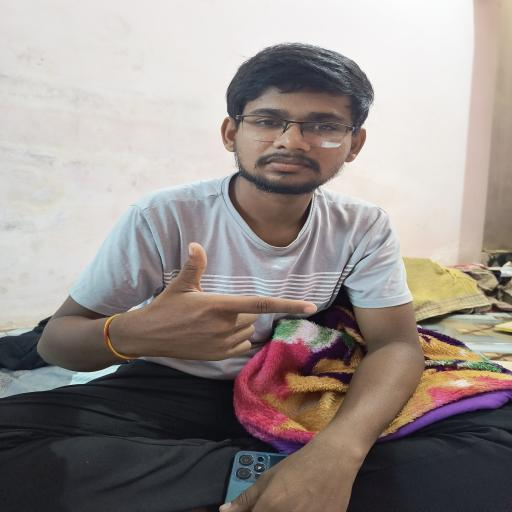OK: (107, 234, 329, 374)
